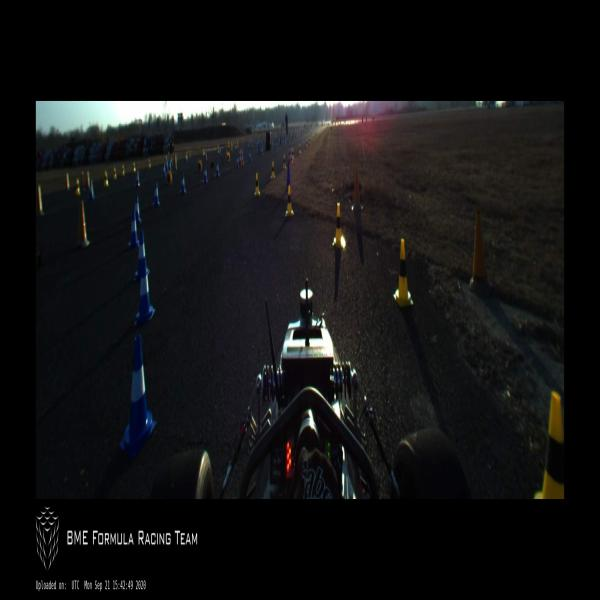blue_cone: (118, 334, 156, 459), (134, 258, 156, 327), (134, 231, 150, 281), (128, 211, 139, 249), (135, 195, 142, 224), (153, 182, 160, 208), (88, 179, 95, 200), (180, 174, 186, 195), (135, 170, 141, 188), (203, 166, 208, 184), (215, 161, 220, 178), (162, 164, 166, 178), (236, 156, 239, 169), (248, 151, 251, 162)
large_orange_cone: (239, 146, 242, 166), (241, 146, 244, 166), (288, 144, 291, 164), (291, 144, 293, 164)
yellow_cone: (533, 391, 564, 499), (393, 238, 414, 307), (332, 202, 346, 250), (285, 185, 294, 217), (254, 172, 260, 197), (270, 162, 276, 180), (103, 170, 109, 188), (75, 178, 80, 196), (113, 166, 117, 180), (283, 154, 286, 170), (122, 164, 125, 176), (298, 144, 301, 155), (133, 162, 136, 172), (292, 148, 294, 160)
